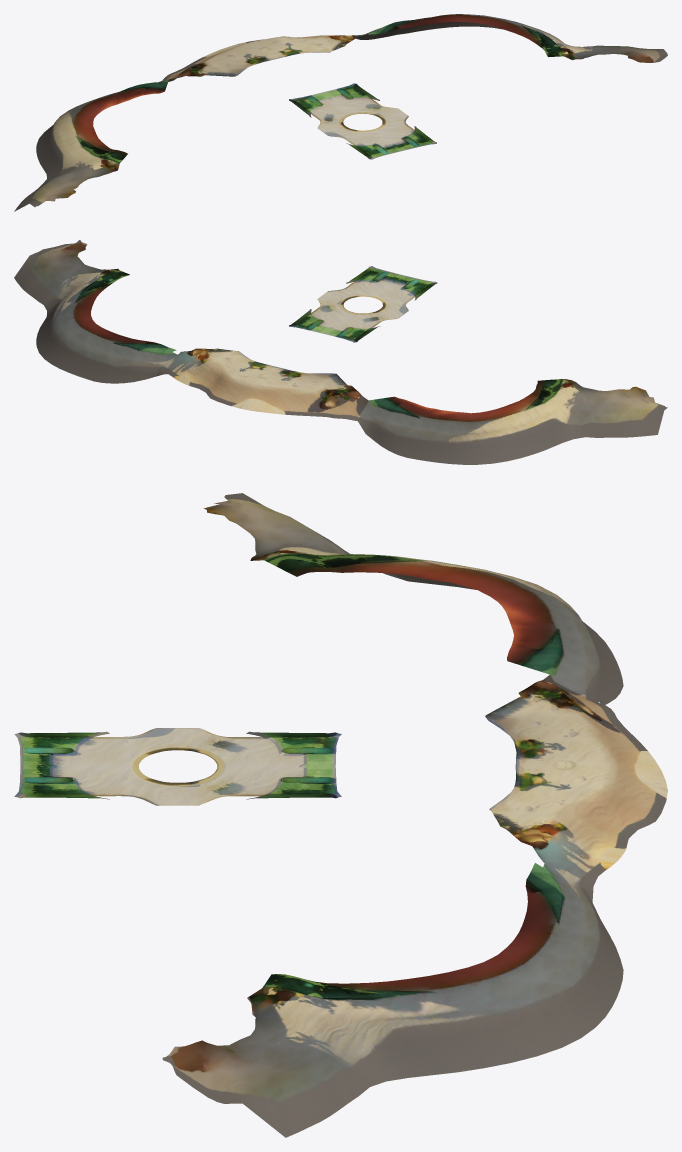
The model's file is pref_sm_beach_tech_hunt_bk_beta_Terrains_Part_03_lv2.fbx.
The picture shows the model from 3 angles, top to bottom: view 1: azimuth 30°, elevation 25°; view 2: azimuth 150°, elevation 25°; view 3: azimuth 270°, elevation 25°; orthographic projection. The views are drawn at different scales.
Visible parts, largest first — view 1: sm_beach_tech_hunt_bk_beta_Terrains_Part_03e_lv2, sm_beach_tech_hunt_bk_beta_Terrains_Part_03f_lv2, sm_beach_tech_hunt_bk_beta_Terrains_Part_03d_lv2, sm_beach_tech_hunt_bk_beta_Terrains_Part_03a_lv2, sm_beach_tech_hunt_bk_beta_Terrains_Part_03b_lv2; view 2: sm_beach_tech_hunt_bk_beta_Terrains_Part_03e_lv2, sm_beach_tech_hunt_bk_beta_Terrains_Part_03f_lv2, sm_beach_tech_hunt_bk_beta_Terrains_Part_03d_lv2, sm_beach_tech_hunt_bk_beta_Terrains_Part_03a_lv2, sm_beach_tech_hunt_bk_beta_Terrains_Part_03b_lv2; view 3: sm_beach_tech_hunt_bk_beta_Terrains_Part_03f_lv2, sm_beach_tech_hunt_bk_beta_Terrains_Part_03d_lv2, sm_beach_tech_hunt_bk_beta_Terrains_Part_03e_lv2, sm_beach_tech_hunt_bk_beta_Terrains_Part_03a_lv2, sm_beach_tech_hunt_bk_beta_Terrains_Part_03b_lv2.
Boxes of the visible parts, box(x1,y1,x2,y2) form: sm_beach_tech_hunt_bk_beta_Terrains_Part_03e_lv2: box(14, 79, 168, 211); sm_beach_tech_hunt_bk_beta_Terrains_Part_03f_lv2: box(359, 14, 667, 62); sm_beach_tech_hunt_bk_beta_Terrains_Part_03d_lv2: box(159, 35, 363, 82); sm_beach_tech_hunt_bk_beta_Terrains_Part_03a_lv2: box(311, 96, 414, 147); sm_beach_tech_hunt_bk_beta_Terrains_Part_03b_lv2: box(289, 83, 436, 159); sm_beach_tech_hunt_bk_beta_Terrains_Part_03e_lv2: box(358, 379, 667, 464); sm_beach_tech_hunt_bk_beta_Terrains_Part_03f_lv2: box(14, 240, 176, 383); sm_beach_tech_hunt_bk_beta_Terrains_Part_03d_lv2: box(156, 348, 368, 421); sm_beach_tech_hunt_bk_beta_Terrains_Part_03a_lv2: box(311, 279, 414, 330); sm_beach_tech_hunt_bk_beta_Terrains_Part_03b_lv2: box(289, 266, 437, 342); sm_beach_tech_hunt_bk_beta_Terrains_Part_03f_lv2: box(162, 863, 623, 1137); sm_beach_tech_hunt_bk_beta_Terrains_Part_03d_lv2: box(485, 675, 667, 901); sm_beach_tech_hunt_bk_beta_Terrains_Part_03e_lv2: box(203, 493, 623, 704); sm_beach_tech_hunt_bk_beta_Terrains_Part_03a_lv2: box(52, 728, 303, 805); sm_beach_tech_hunt_bk_beta_Terrains_Part_03b_lv2: box(14, 732, 341, 798).
Bounding box in the file's own units: 194 × 9.48 × 86.4.
